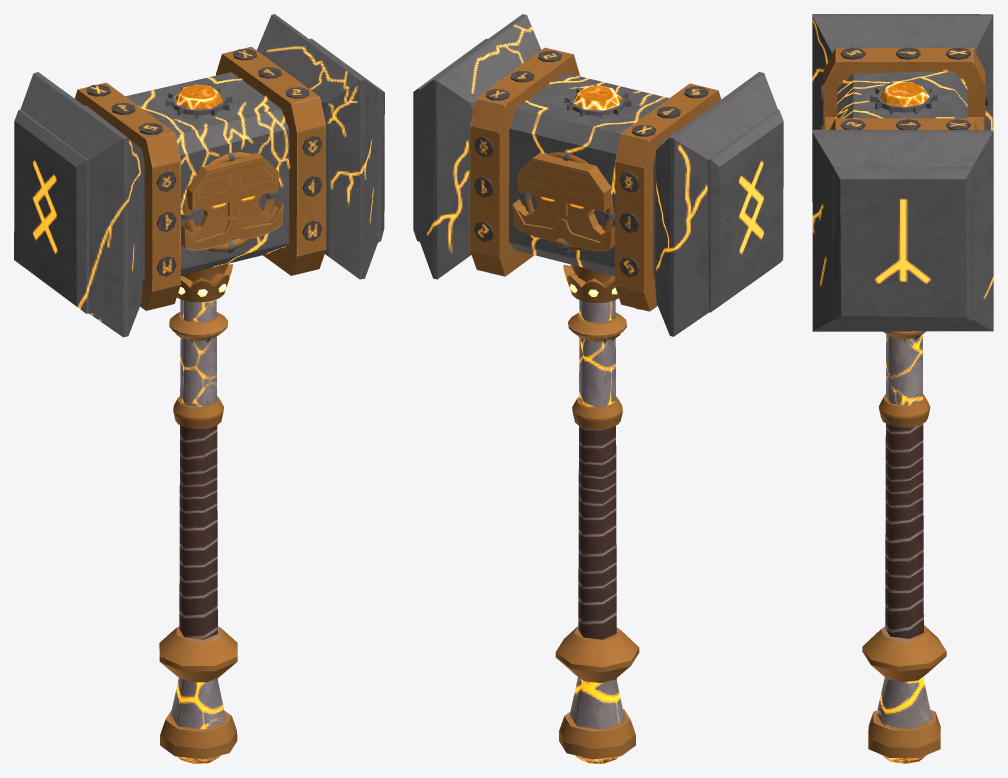
Rendered from Hammer_Rage.fbx.
3 views of the same model, side by side, from view 1: azimuth 30°, elevation 25°; view 2: azimuth 150°, elevation 25°; view 3: azimuth 270°, elevation 25° (orthographic).
Parts seen in each view (by area): view 1: Handle_low; view 2: Handle_low; view 3: Handle_low.
Part boxes in pixels (x1,y1,x2,y2): Handle_low: (14,14,384,763); Handle_low: (413,14,783,763); Handle_low: (812,14,993,763).
Size of the model in its own units: 49.66 by 104 by 25.17.
Materials: 1 (1 with a texture image).
